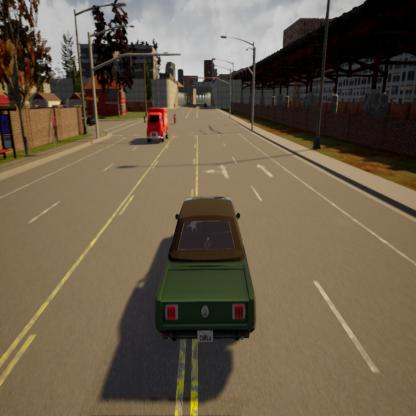Cars: (152, 185, 262, 351), (144, 106, 172, 144)
